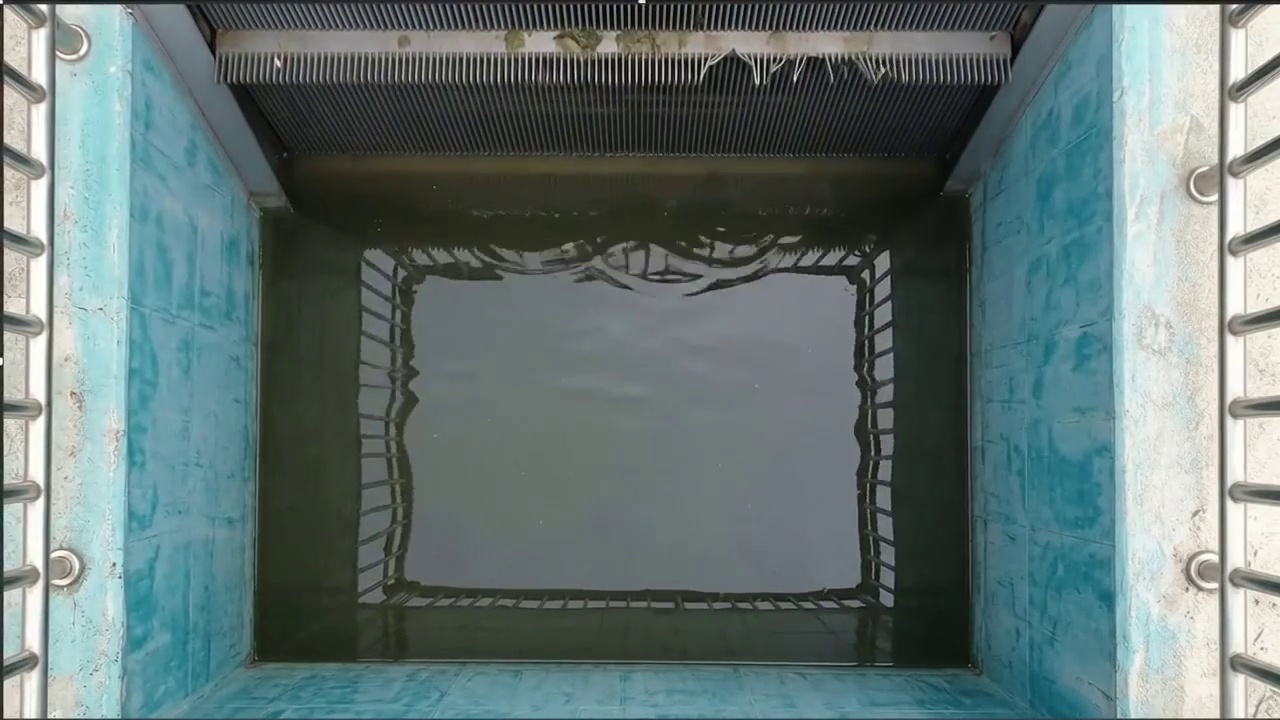damage: (695, 39, 905, 92)
